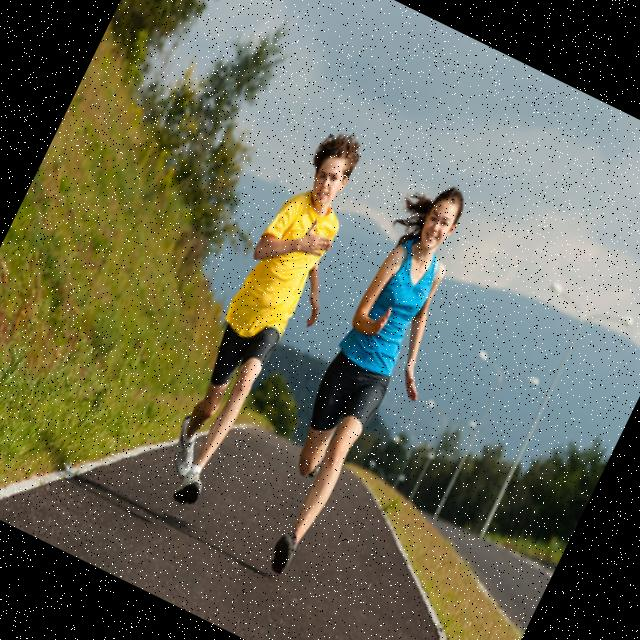Person: (231, 170, 507, 597), (137, 120, 395, 525)
